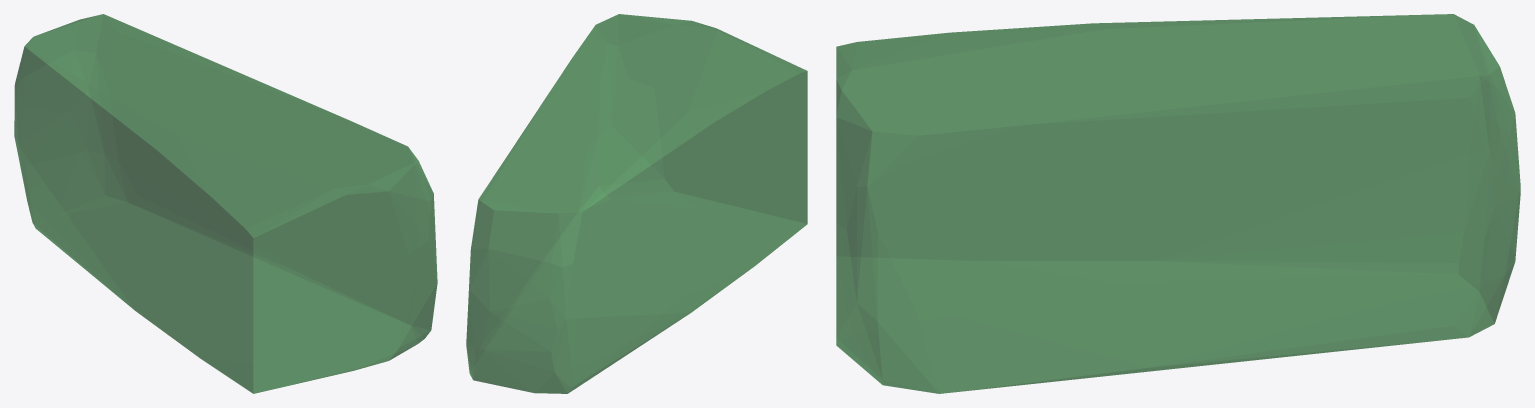
The picture shows the model from 3 angles, left to right: view 1: azimuth 30°, elevation 25°; view 2: azimuth 150°, elevation 25°; view 3: azimuth 270°, elevation 25°; orthographic projection. The views are drawn at different scales.
Parts seen in each view (by area): view 1: Shape_IndexedFaceSet.003_Shape_IndexedFaceSet.6689; view 2: Shape_IndexedFaceSet.003_Shape_IndexedFaceSet.6689; view 3: Shape_IndexedFaceSet.003_Shape_IndexedFaceSet.6689.
Boxes of the visible parts, x1,y1,x2,y2 form: Shape_IndexedFaceSet.003_Shape_IndexedFaceSet.6689: [14, 14, 437, 393]; Shape_IndexedFaceSet.003_Shape_IndexedFaceSet.6689: [466, 14, 807, 393]; Shape_IndexedFaceSet.003_Shape_IndexedFaceSet.6689: [836, 14, 1520, 393].
Bounding box in the file's own units: 0.0318 × 0.0286 × 0.0705.
